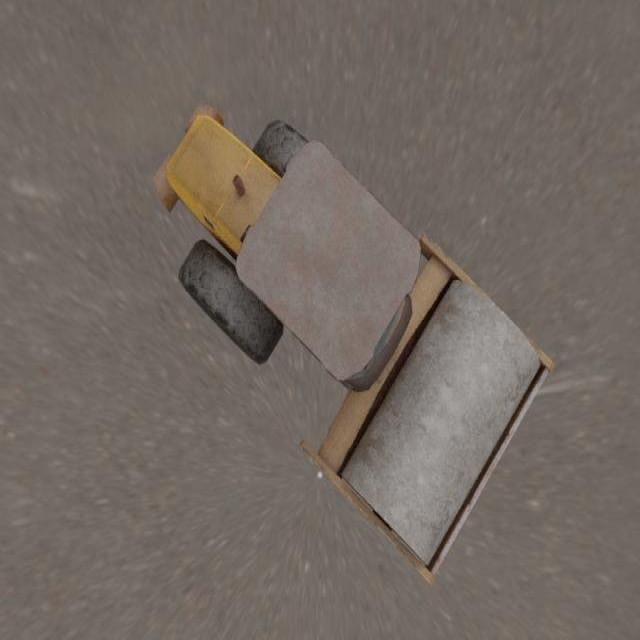Roller: (153, 103, 554, 584)
